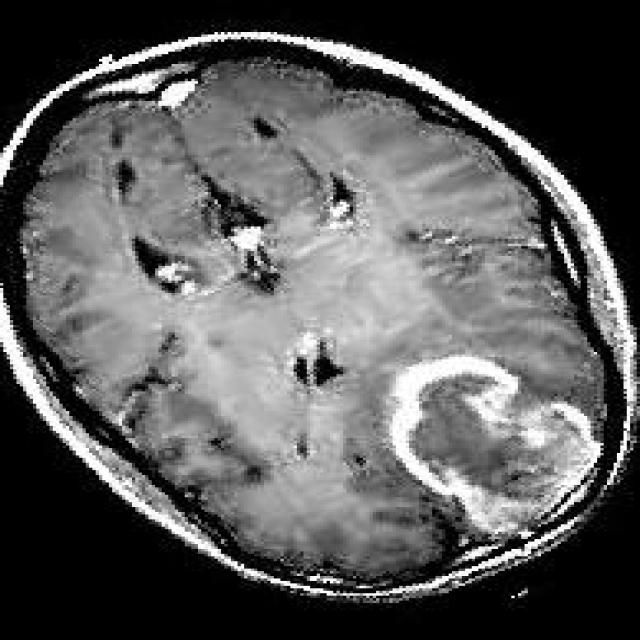Tumor-Cell: (369, 342, 588, 514)
